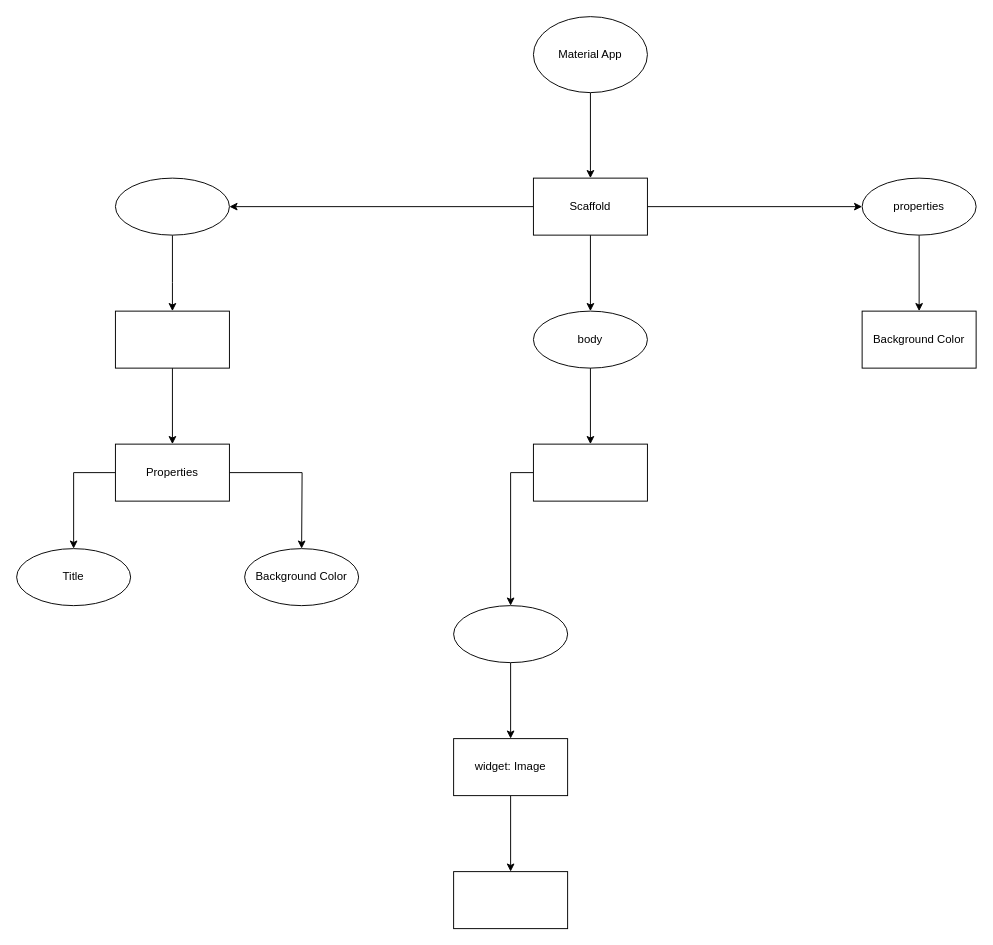
The diagram is 993 pixels wide and 945 high, and some of its shapes have lost their labels. The shapes that lost their labels are listed below. From the top down, each one's box as (x1, y1, x2, y2) in pixels, then its label:
(114, 177, 229, 235): widgets
(114, 310, 229, 368): AppBar
(532, 443, 647, 501): Container: Center
(453, 605, 568, 663): child
(453, 871, 568, 929): image prop: Asset/Network Img
